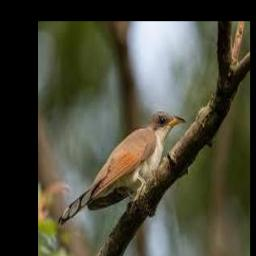Cuckoo: (59, 111, 186, 225)
